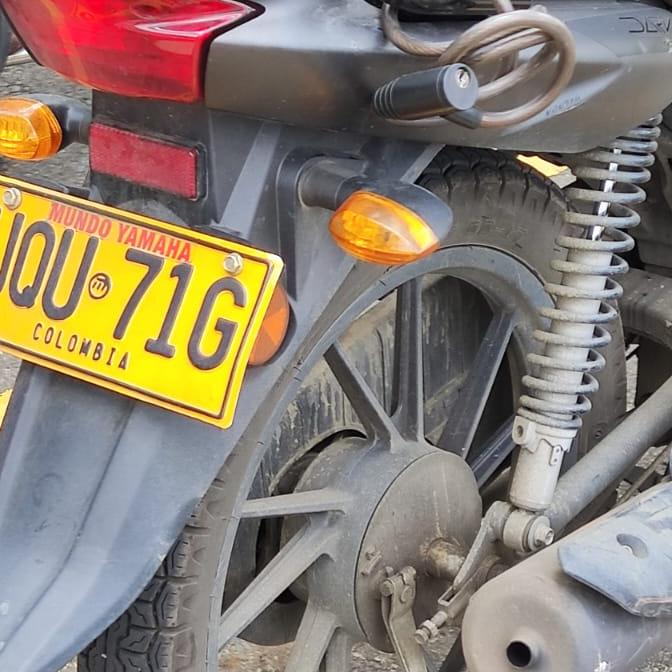plates: (0, 178, 284, 427)
